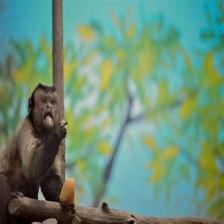monkey: (0, 85, 77, 224)
